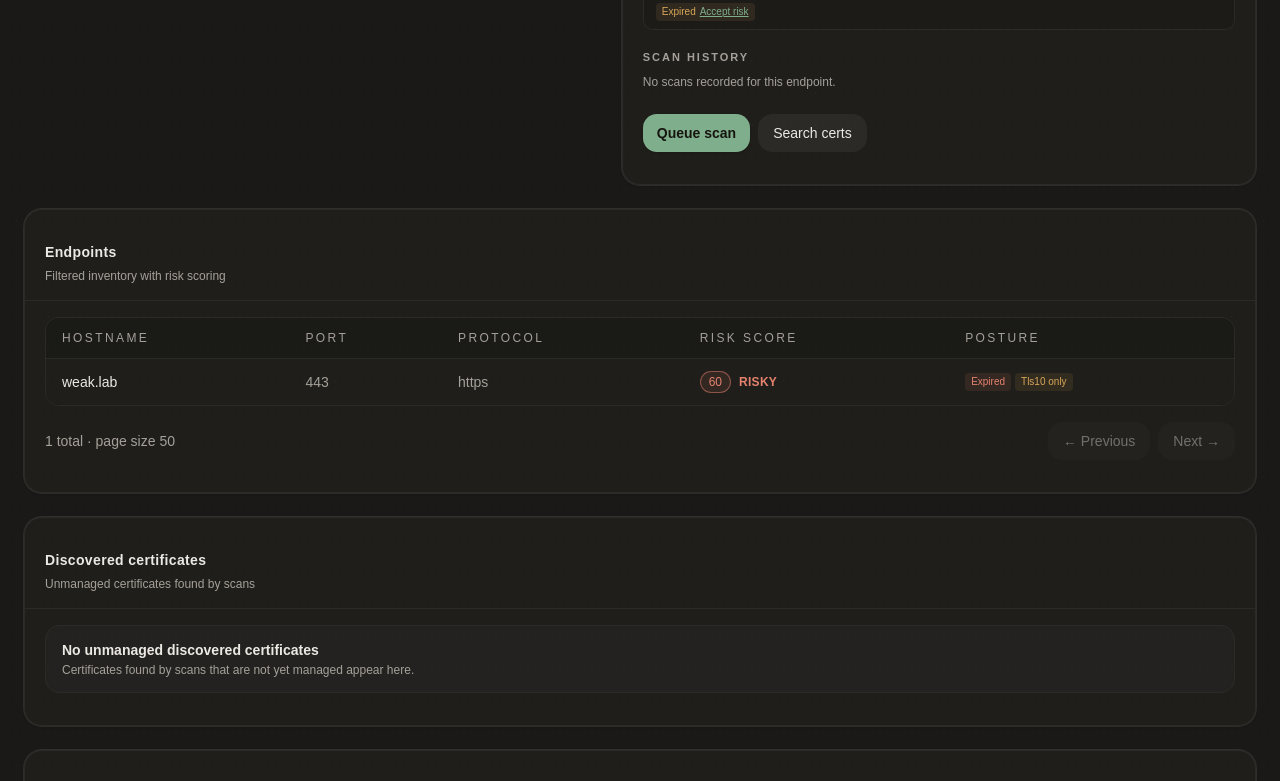
Test case: accept-risk dialog › opens dialog from a discovery issue row with the five justifications
This screenshot has width=1280, height=781.
(page scrolled)
Click the button "weak.lab" at coordinates (90, 382), box x1=62 y1=372 x2=117 y2=392
(page scrolled)
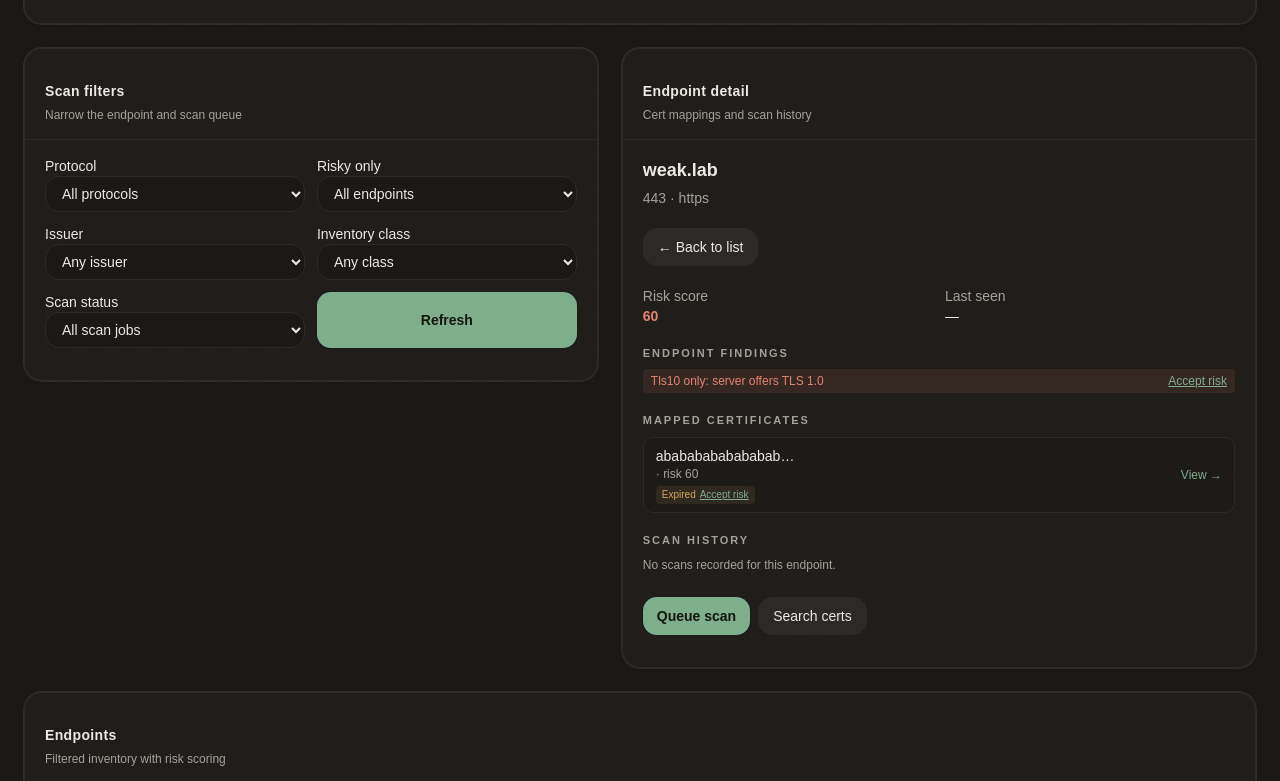
Click the button "Accept risk" in the row of "Tls10 only: server offers TLS 1.0" at coordinates (1198, 381), box x1=1168 y1=373 x2=1227 y2=389
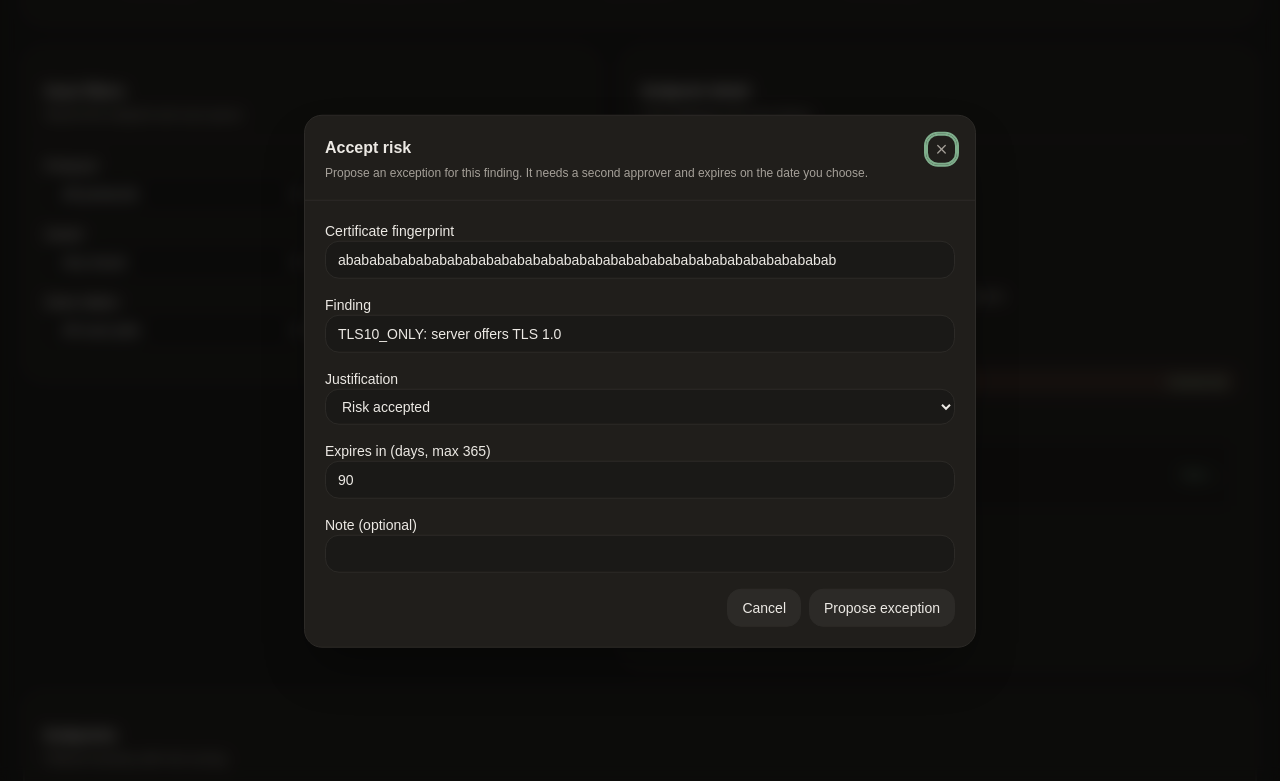
Now the number field named "Expiry days" holds "90", box x1=325 y1=460 x2=955 y2=498
